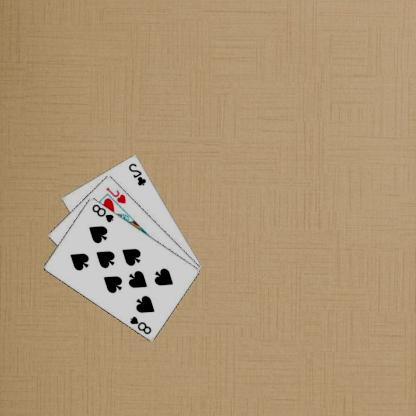2C: (128, 161, 149, 186)
8S: (129, 314, 154, 336), (91, 202, 117, 223)
JH: (105, 184, 129, 204)
